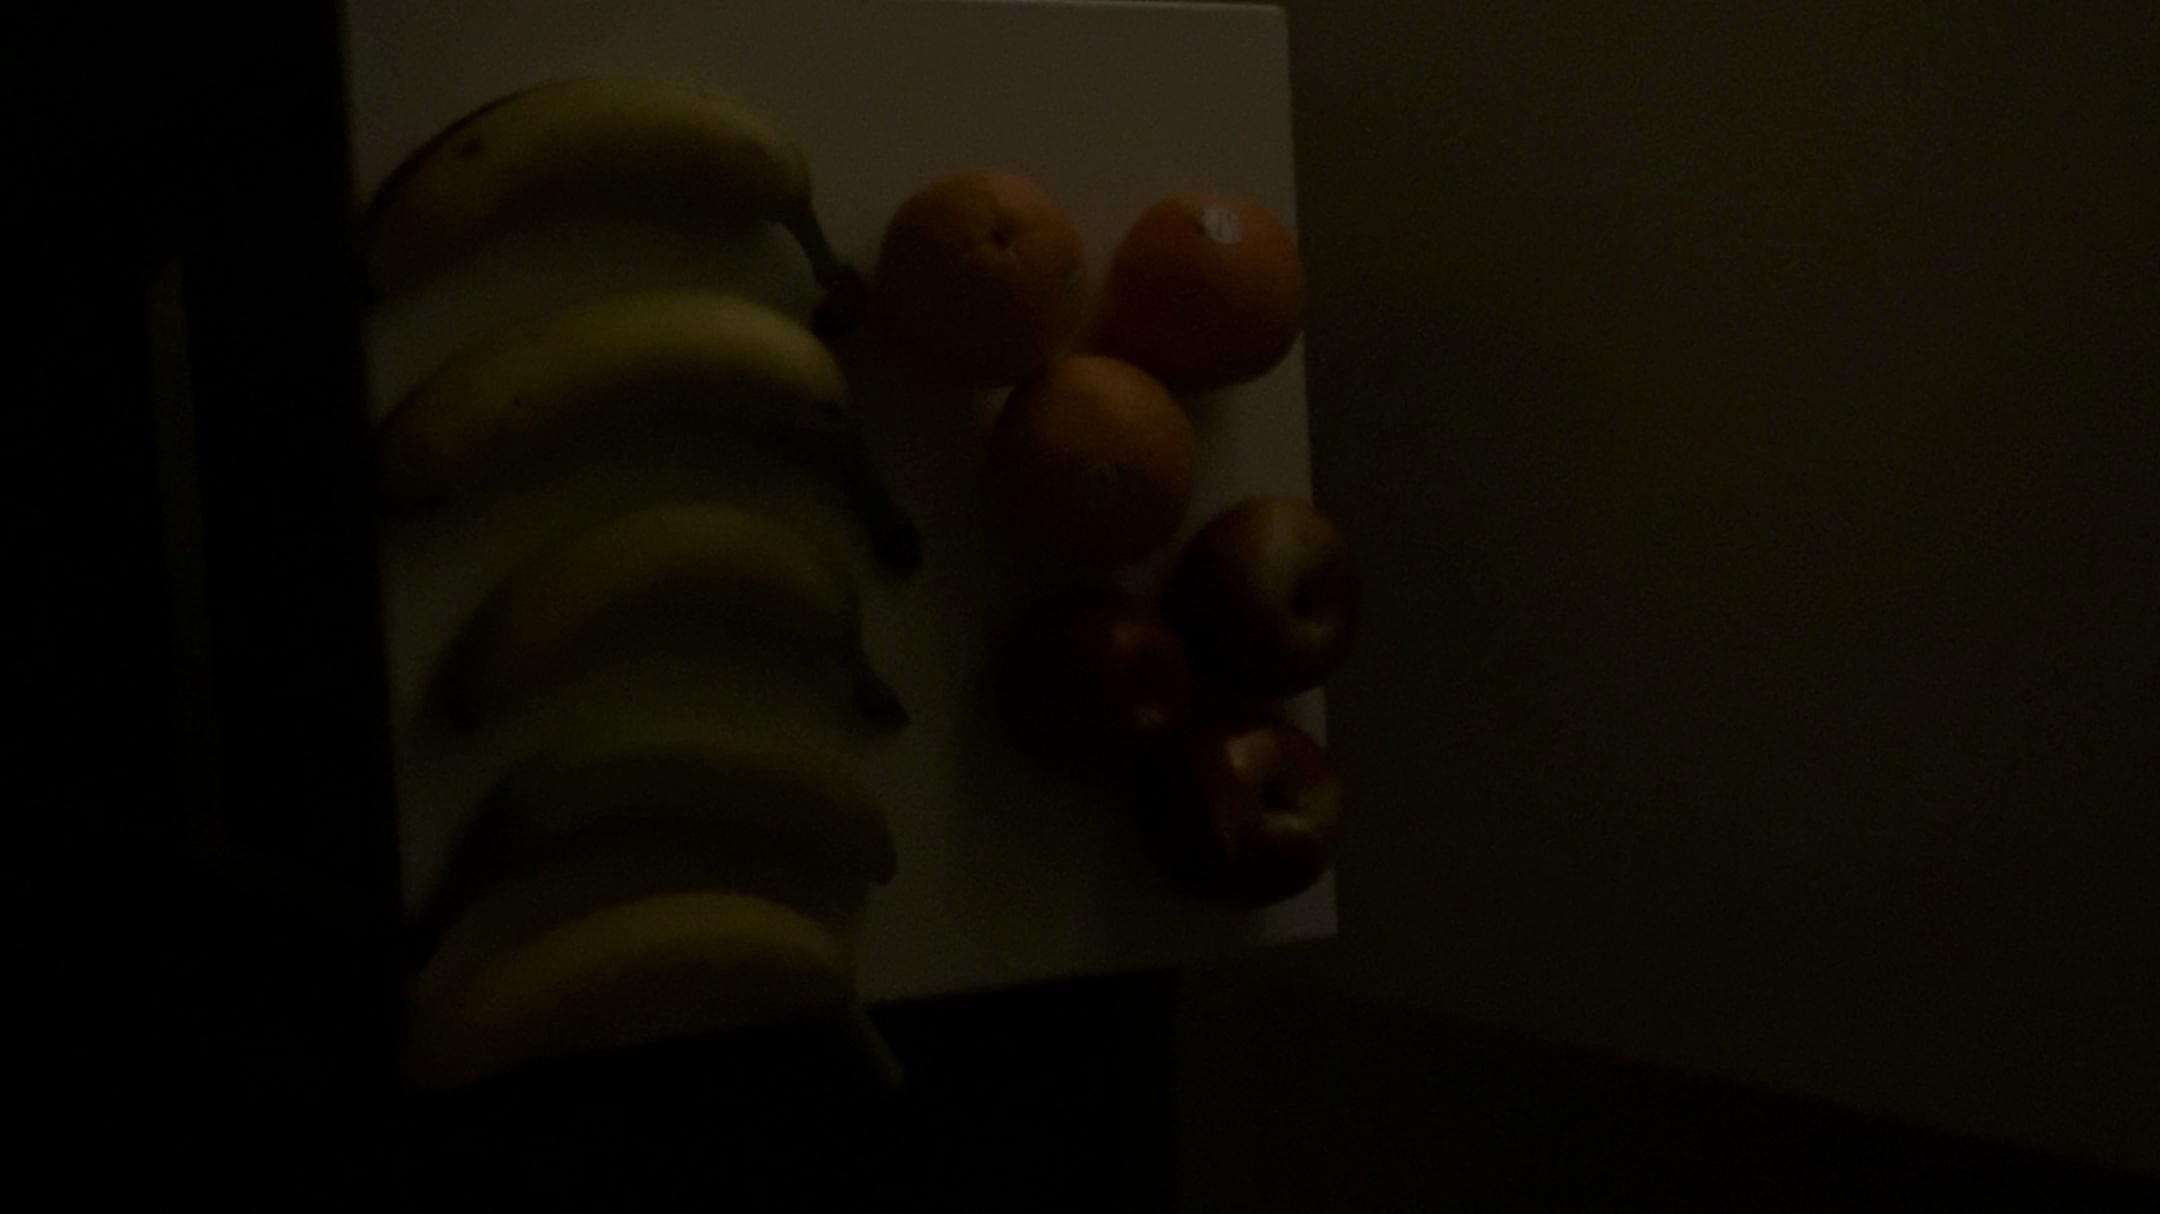apple: (1007, 589, 1211, 801), (1175, 706, 1366, 925), (1197, 485, 1386, 689)
banana: (369, 306, 912, 533), (359, 79, 855, 324), (409, 509, 898, 741), (406, 723, 938, 920), (411, 899, 886, 1100)
orange: (979, 349, 1197, 565), (1104, 174, 1314, 398), (880, 153, 1083, 370)
